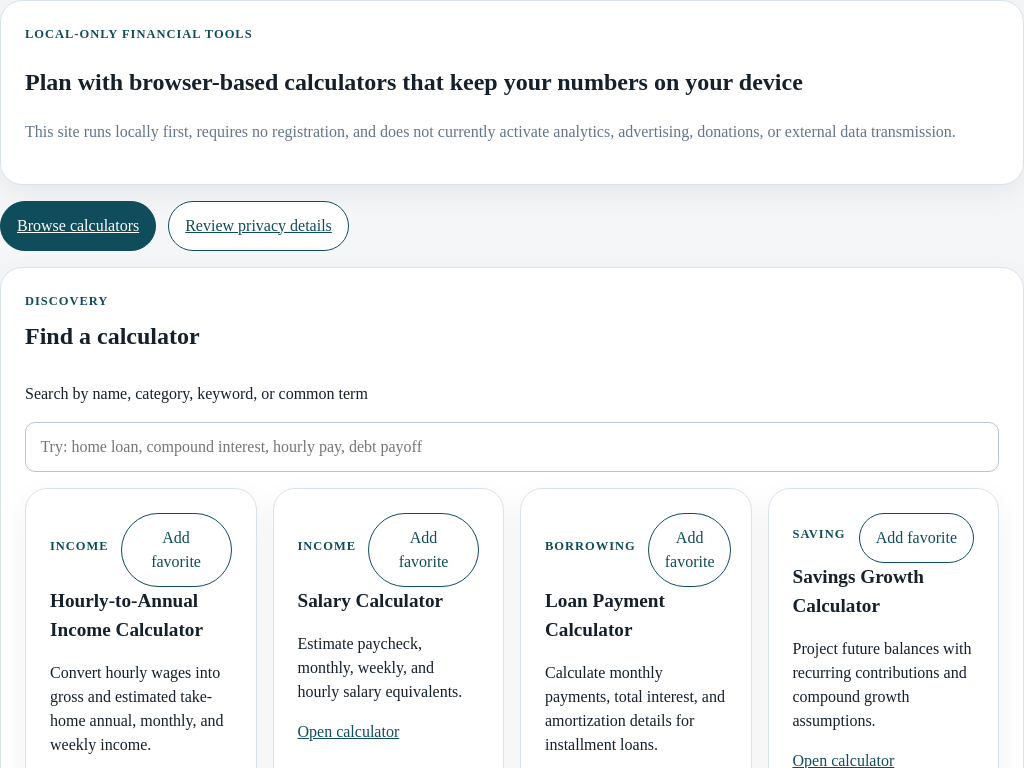
Scenario: app behavior › finds calculators by alias on the homepage
Type "home loan" into the search field labelled "Search by name, category, keyword, or common term" at (512, 447), box x1=25 y1=422 x2=999 y2=472
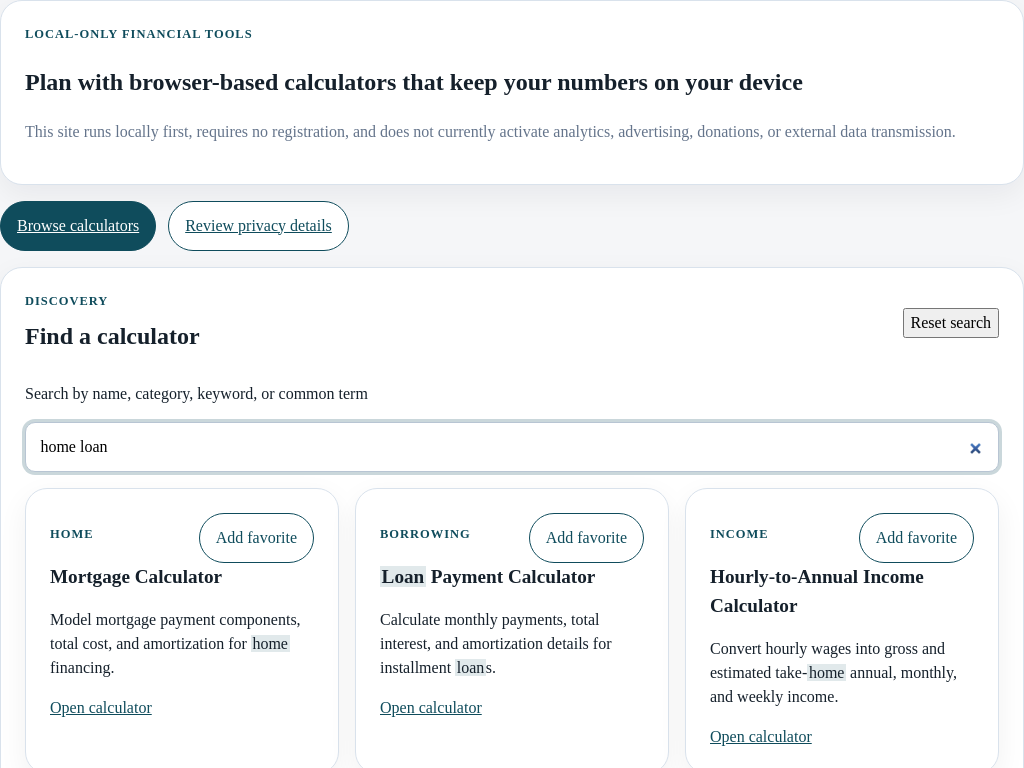
Now the heading "Mortgage Calculator" is shown, box x1=50 y1=566 x2=222 y2=587
